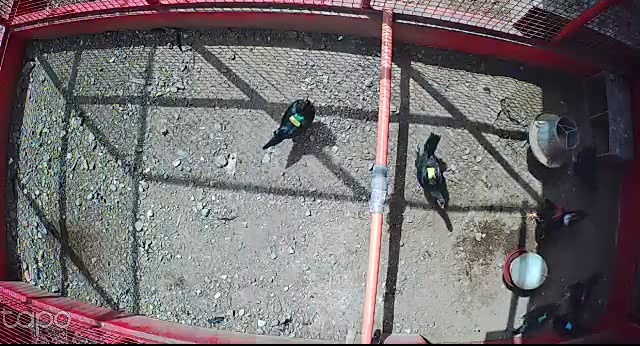Chicken: (413, 132, 455, 211), (261, 95, 316, 152), (557, 268, 605, 311), (565, 138, 602, 192), (511, 299, 561, 336), (553, 310, 596, 341)
Drinker: (502, 249, 549, 293)
Feeder: (528, 109, 581, 168)
Rooster: (522, 195, 590, 241)
Saddle_Color_Blue: (566, 322, 572, 329)
Saddle_Color_Yellow: (425, 167, 438, 181)
Saddle_Color_YellowGreen: (290, 113, 303, 126)
